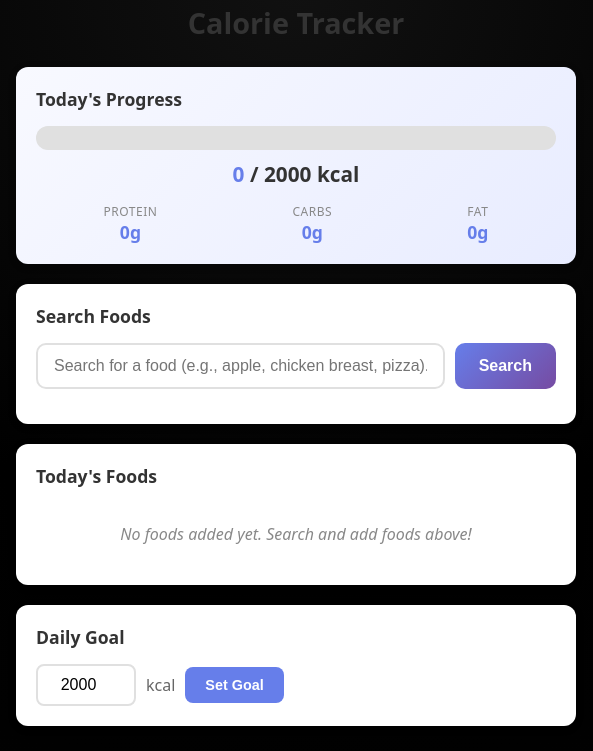
it: CaloriesScreen › Removing Foods › removes food from today list when remove button is clicked
In the field with placeholder "Search for a food (e.g., apple, chicken breast, pizza)...": (240, 366) x1=36 y1=343 x2=445 y2=389, type "apple"
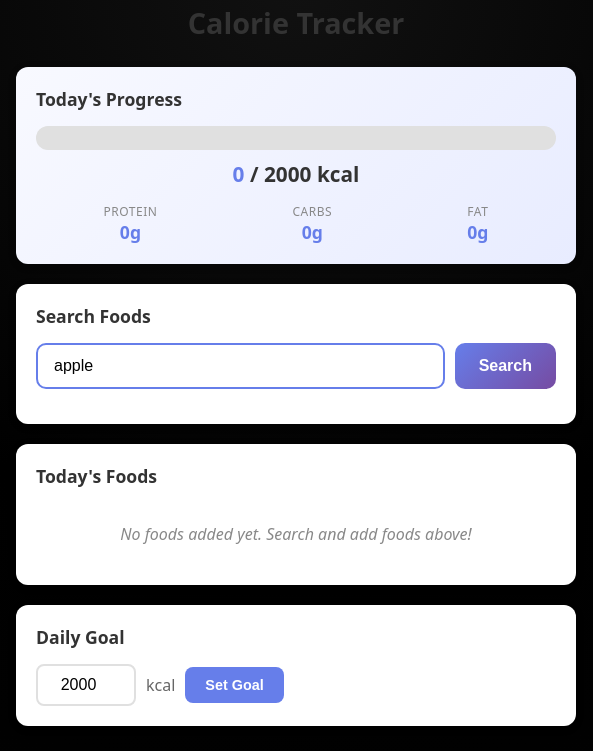
Click the button "Search": (505, 366) x1=455 y1=343 x2=556 y2=389
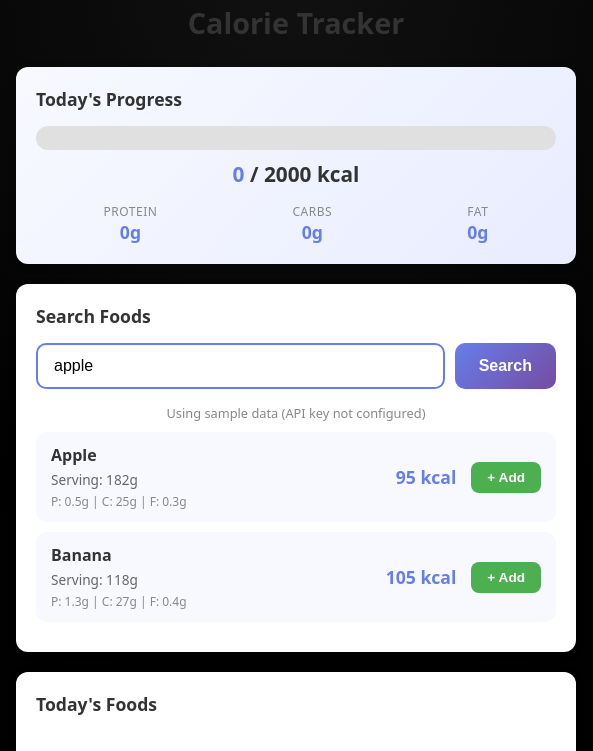
Now the text "apple" is shown, box x1=51 y1=444 x2=97 y2=466
Click the button "+ Add" in the row of "95": (506, 477) x1=471 y1=462 x2=541 y2=492
(page scrolled)
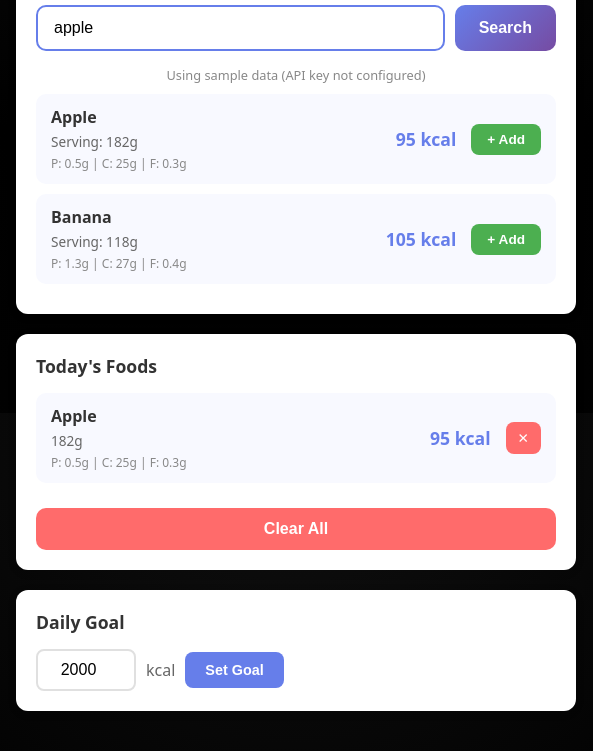
Click the button "✕": (523, 438) x1=506 y1=422 x2=541 y2=454
(page scrolled)
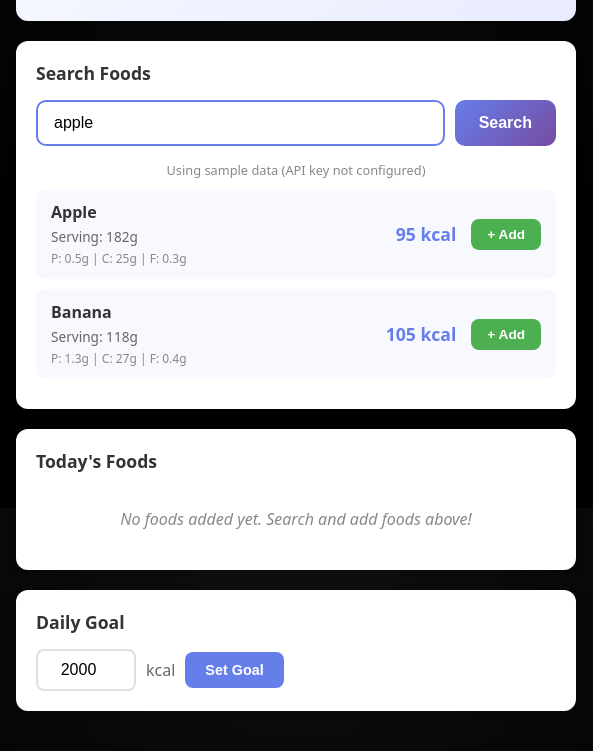
Now the text "No foods added yet. Search and add foods above!" is shown, box x1=120 y1=508 x2=472 y2=530
